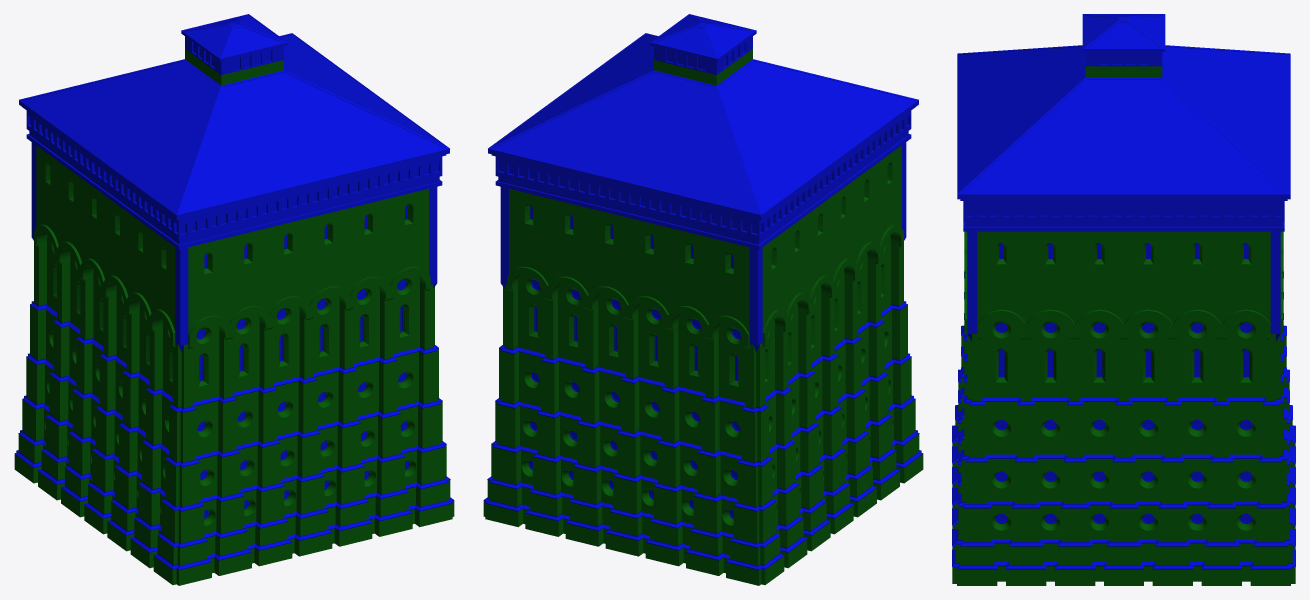
File: WCWroclaw.fbx
3 views of the same model, side by side, from view 1: azimuth 30°, elevation 25°; view 2: azimuth 150°, elevation 25°; view 3: azimuth 270°, elevation 25° (orthographic). The views are drawn at different scales.
Parts seen in each view (by area): view 1: ID_1, ID_2; view 2: ID_1, ID_2; view 3: ID_1, ID_2.
Part boxes in pixels (x1,y1,x2,y2): ID_1: (14,49,454,585); ID_2: (14,14,454,570); ID_1: (483,49,923,585); ID_2: (483,14,923,570); ID_1: (952,66,1295,585); ID_2: (952,14,1295,569).
Size of what is drawn, in the model's own units: 34.57 by 54.92 by 34.57.
